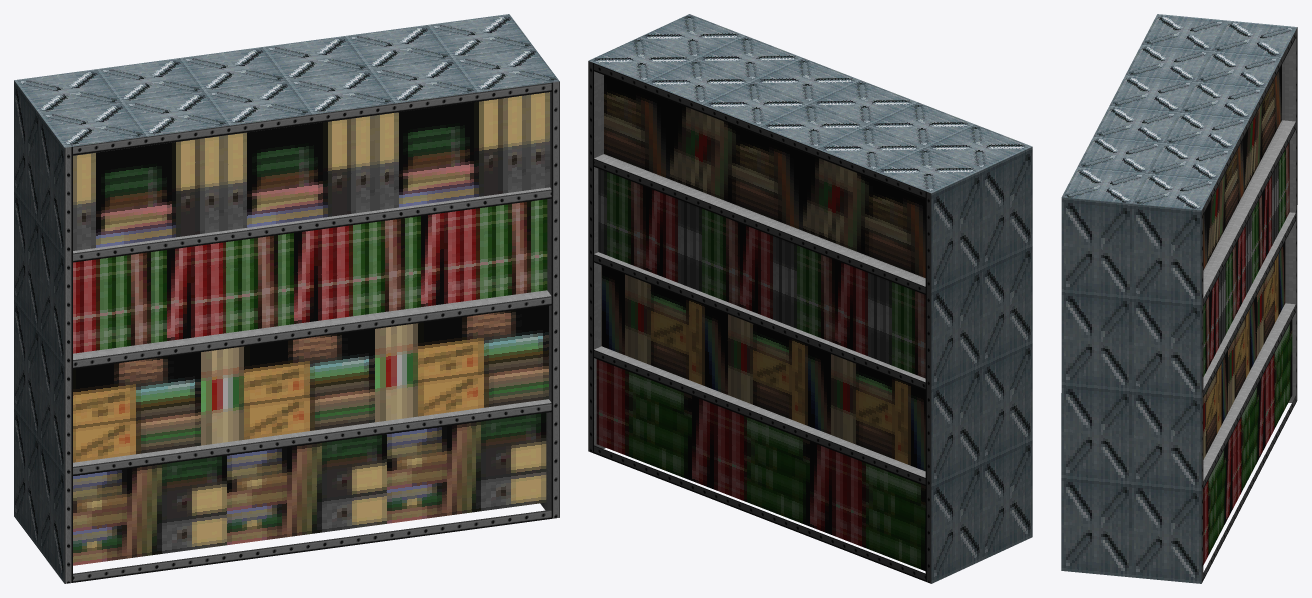
The model's file is primary_174.glb.
The picture shows the model from 3 angles, left to right: view 1: azimuth 30°, elevation 25°; view 2: azimuth 150°, elevation 25°; view 3: azimuth 270°, elevation 25°; orthographic projection. The views are drawn at different scales.
Visible parts, largest first — view 1: Object; view 2: Object; view 3: Object.
Part boxes in pixels (x1,y1,x2,y2): Object: [14, 14, 559, 583]; Object: [588, 14, 1032, 583]; Object: [1061, 14, 1297, 583].
Size of the model in its own units: 2.8 by 2.48 by 1.42.
16 materials, 16 textured.
